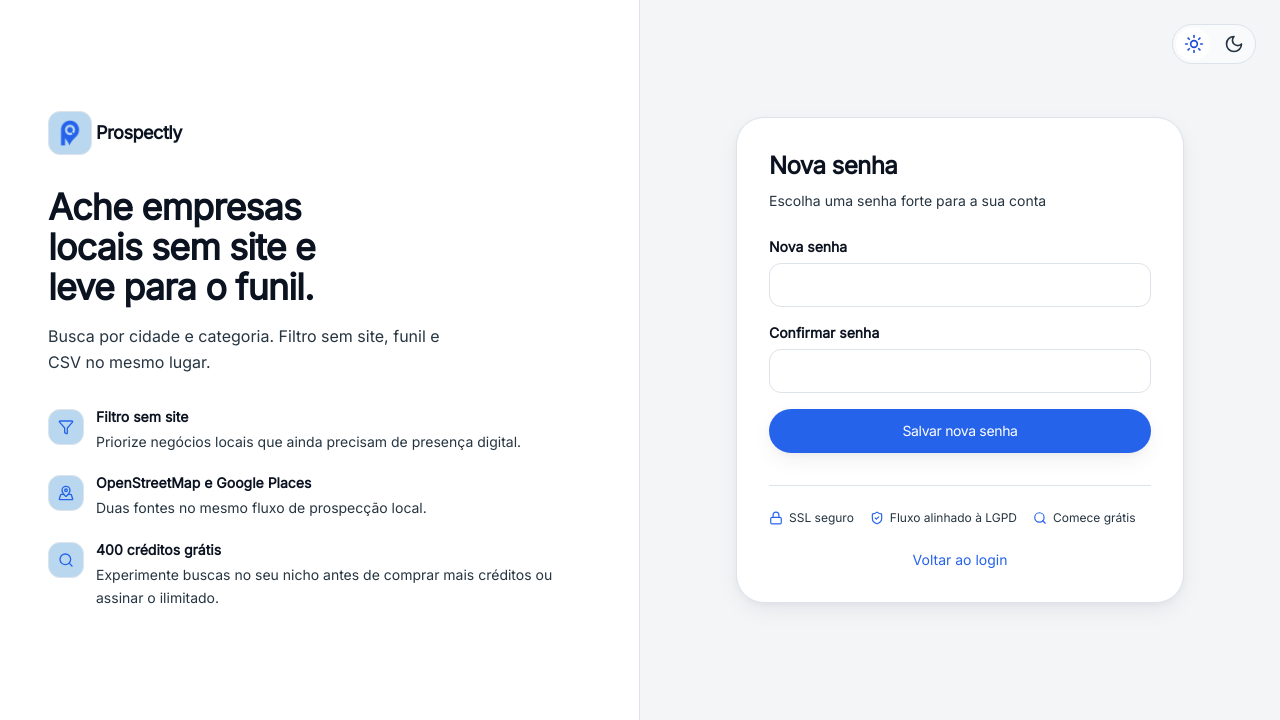
Test: ResetPasswordPage › submits new password when token is present
The image size is (1280, 720).
Type "NewPass1" into the password field labelled "Nova senha".
click(960, 285); type("NewPass1")  # box [769,263,1151,307]
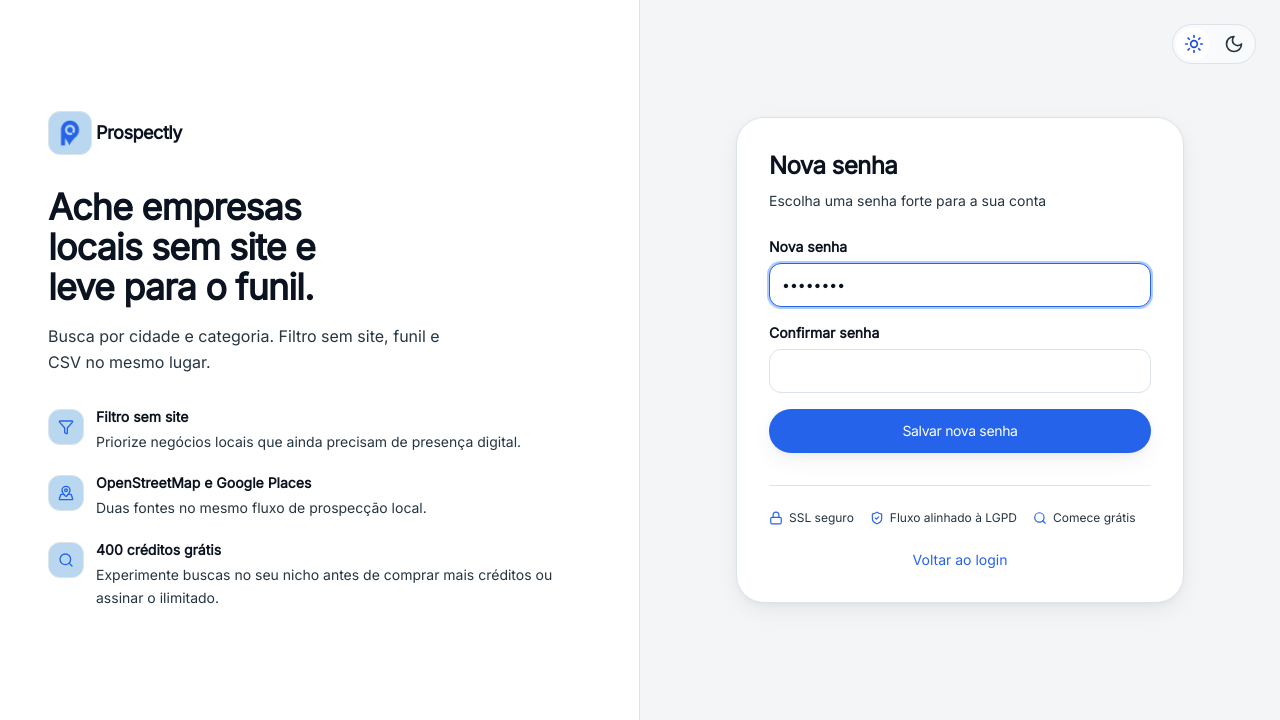
Type "NewPass1" into the password field labelled "Confirmar senha".
click(960, 371); type("NewPass1")  # box [769,349,1151,393]
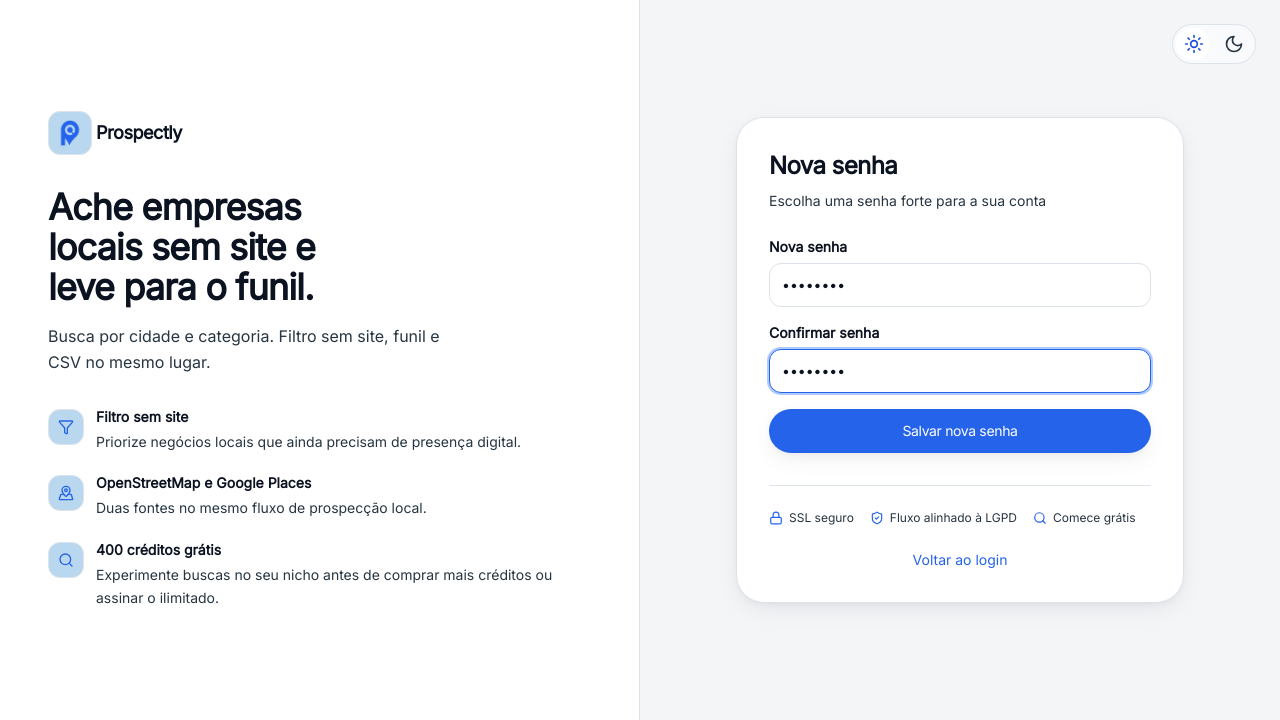
Click the button "Salvar nova senha".
click(960, 431)  # box [769,409,1151,453]
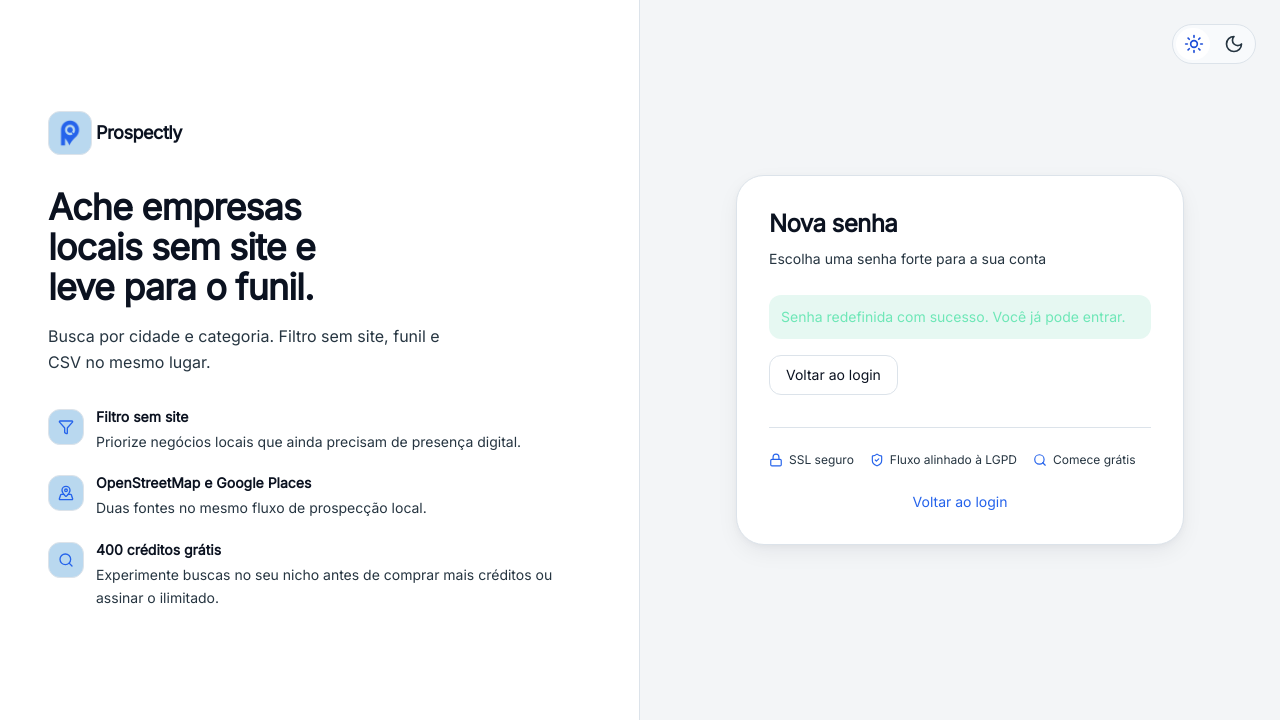
Expected: the text "Senha redefinida com sucesso. Você já pode entrar." is shown, [769,295,1151,339]
